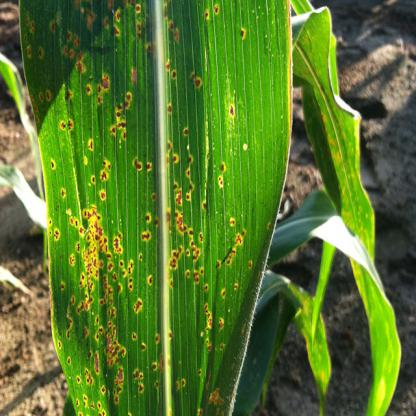corn rust leaf: (17, 5, 293, 415)
